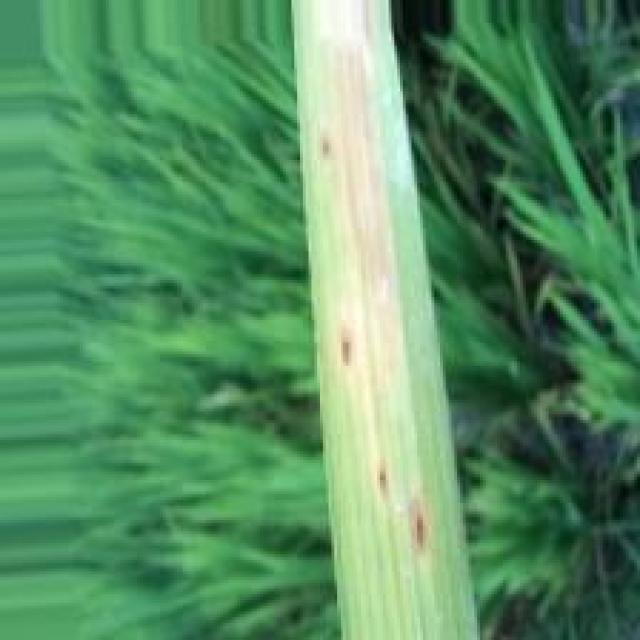Brown_Spot: (408, 493, 433, 561), (376, 454, 394, 503), (340, 325, 358, 367), (320, 132, 338, 162)
